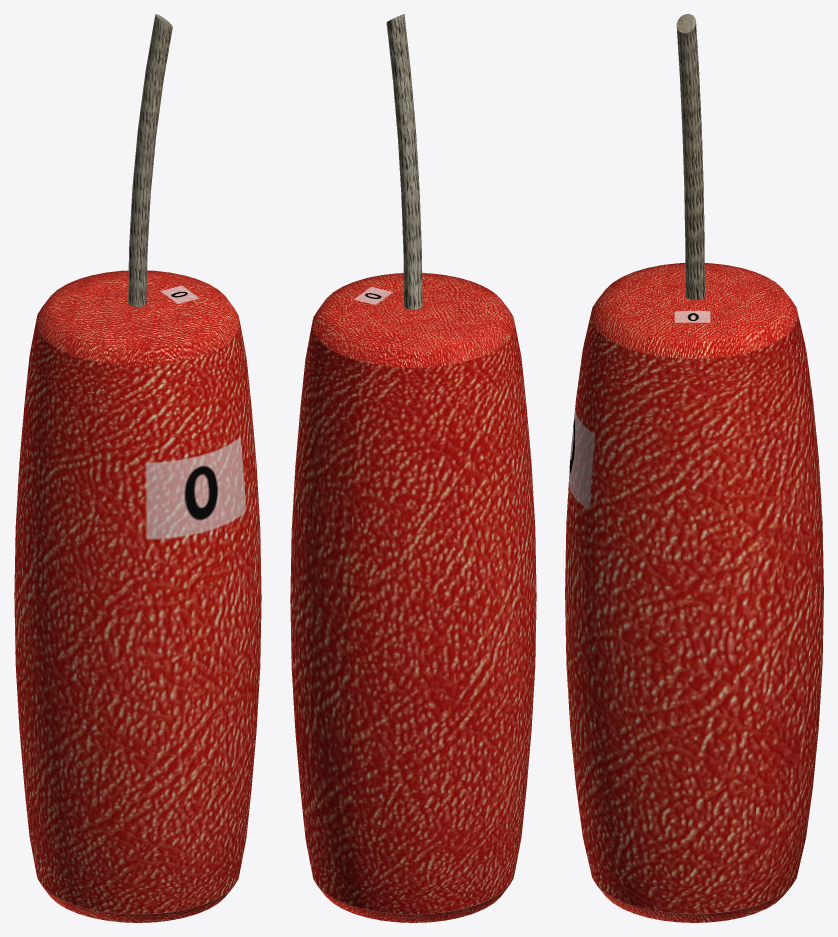
File: punching bag red0.FBX
3 renders of one model, left to right at view 1: azimuth 30°, elevation 25°; view 2: azimuth 150°, elevation 25°; view 3: azimuth 270°, elevation 25°, orthographic.
Visible parts, largest first — view 1: Cylinder001, Cylinder002; view 2: Cylinder001, Cylinder002; view 3: Cylinder001, Cylinder002.
Part boxes in pixels (x1,y1,x2,y2): Cylinder001: [14, 270, 261, 922]; Cylinder002: [128, 14, 172, 306]; Cylinder001: [290, 273, 536, 922]; Cylinder002: [386, 14, 422, 309]; Cylinder001: [565, 263, 823, 922]; Cylinder002: [676, 14, 704, 299].
Size of the model in its own units: 54.37 by 216 by 56.99.
